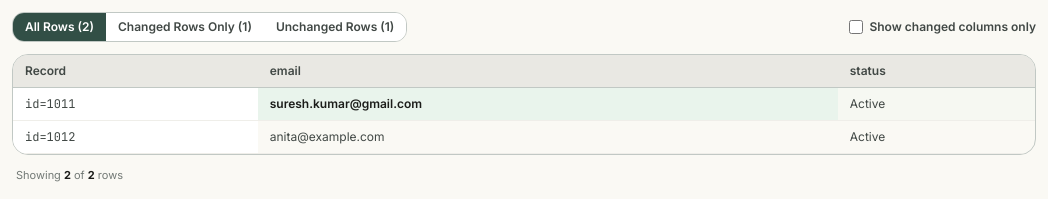
Test case: ChangePreviewTable › filters to unchanged rows only
Click the tab "Unchanged Rows (1)" at (335,27), box [264, 13, 406, 41]
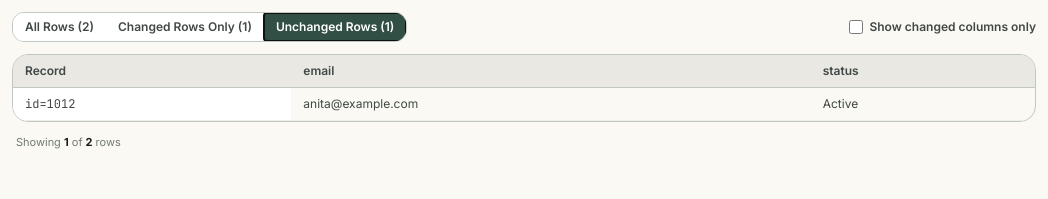
Check: the text "id=1012" is shown, box [13, 88, 291, 121]
Check: the text "id=1011" is gone
